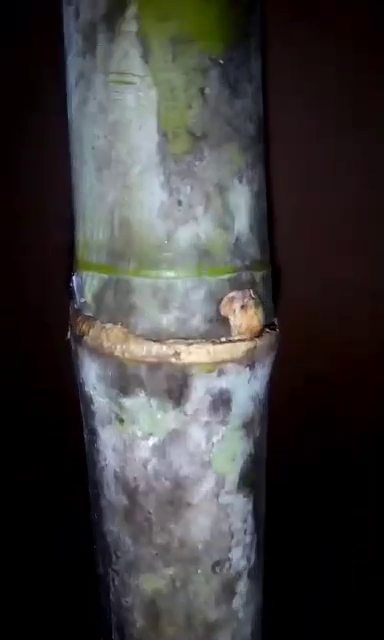cane eye: (215, 288, 270, 343)
